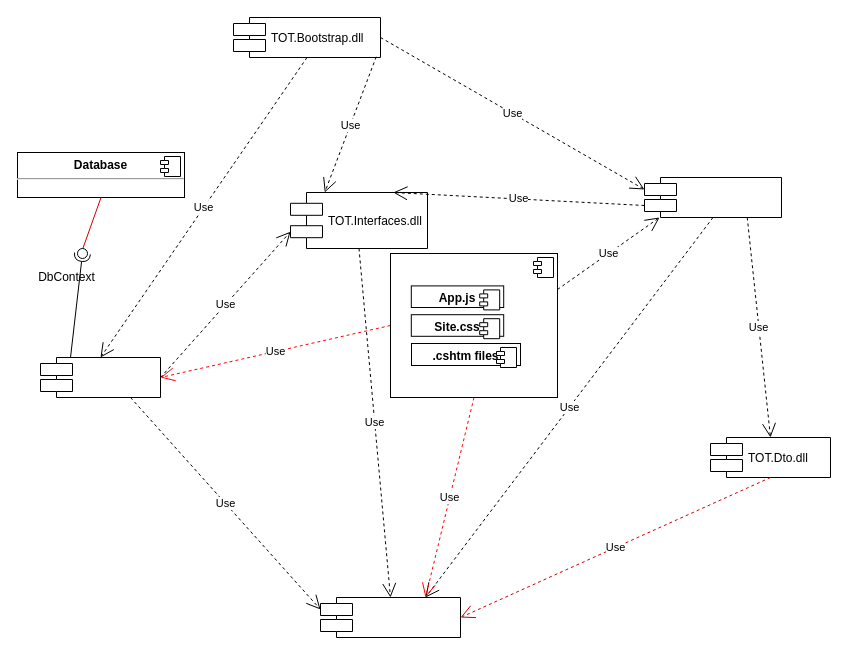
The diagram is 848 pixels wide and 655 high, and some of its shapes have lost their labels. Here are the shapes that lost their labels. From the top down, the box of each, then its label:
(644, 176, 782, 218): TOT.Business.dll
(390, 252, 558, 398): TOT.Web
(40, 356, 160, 398): TOT.Data.dll
(320, 596, 460, 638): TOT.Entities.dll
